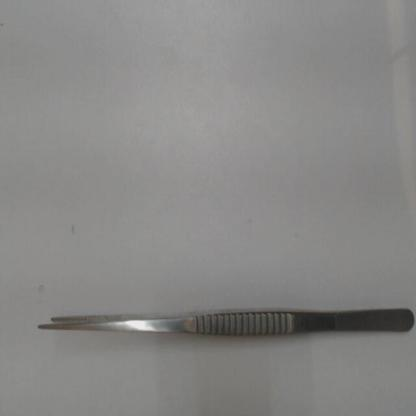DeBakey Dissector: (25, 287, 415, 349)
